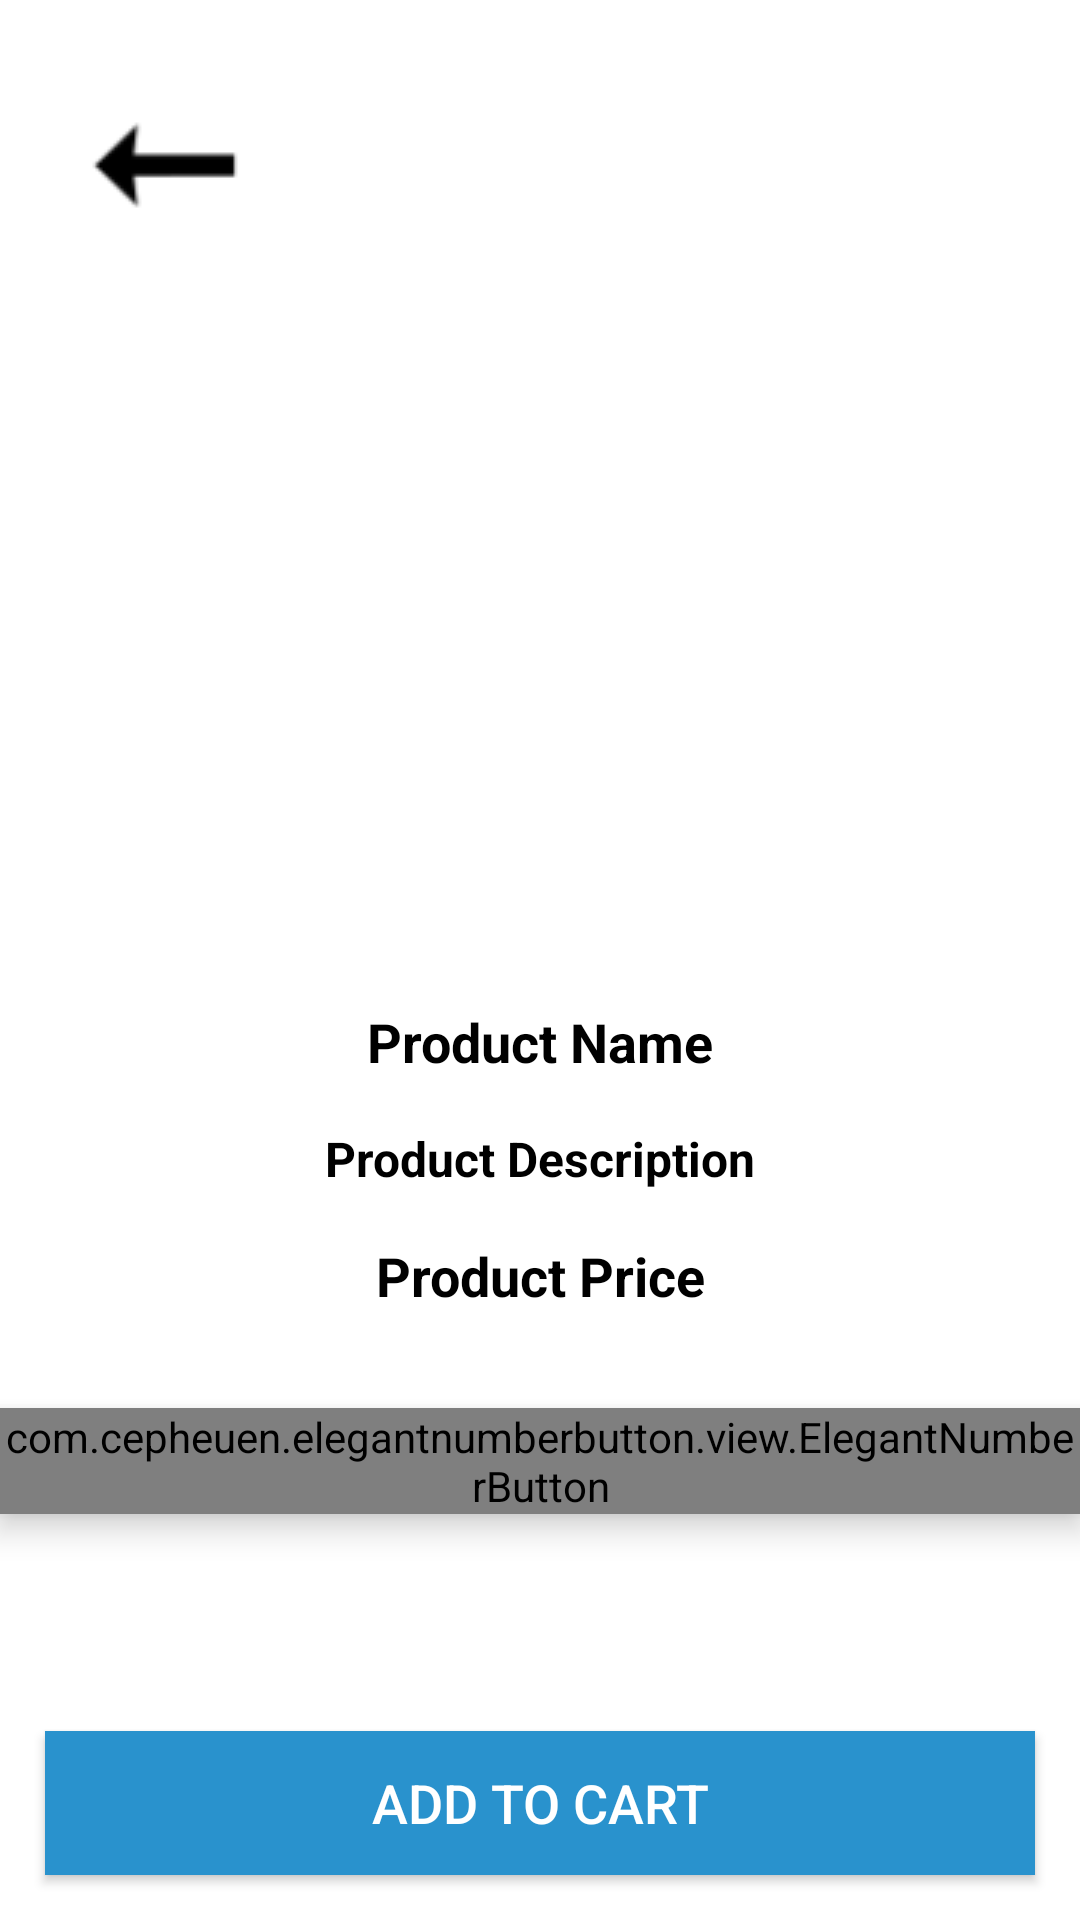

Icon click points for this 1080 × 1920 phone screenshot, format point (x, y):
back: point (165, 165)
